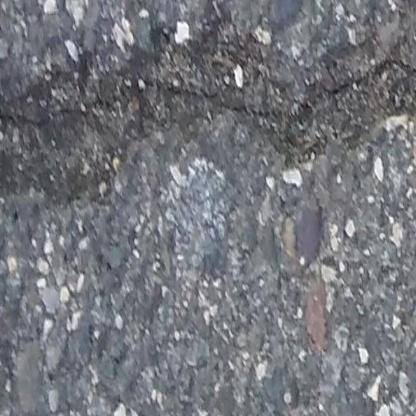Cracks: (0, 0, 416, 209)
